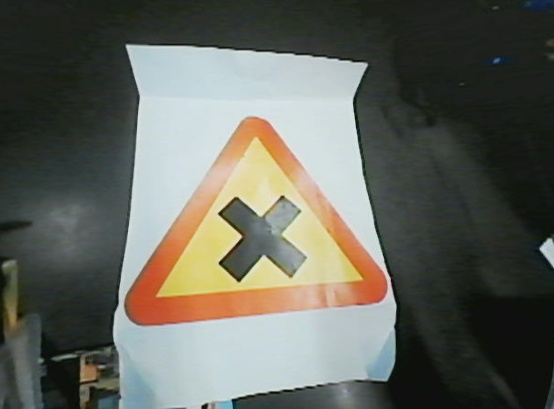junction: (131, 111, 392, 345)
